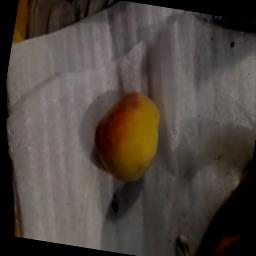Peach Unripe: (75, 78, 181, 194)
